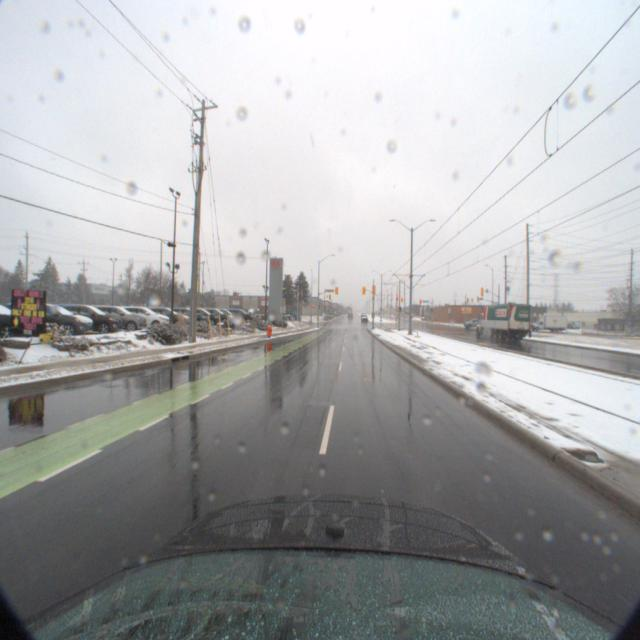Car: (38, 294, 124, 328), (74, 297, 147, 324), (108, 298, 170, 323), (128, 298, 190, 322)
Truck: (477, 296, 541, 338), (530, 310, 572, 328)
